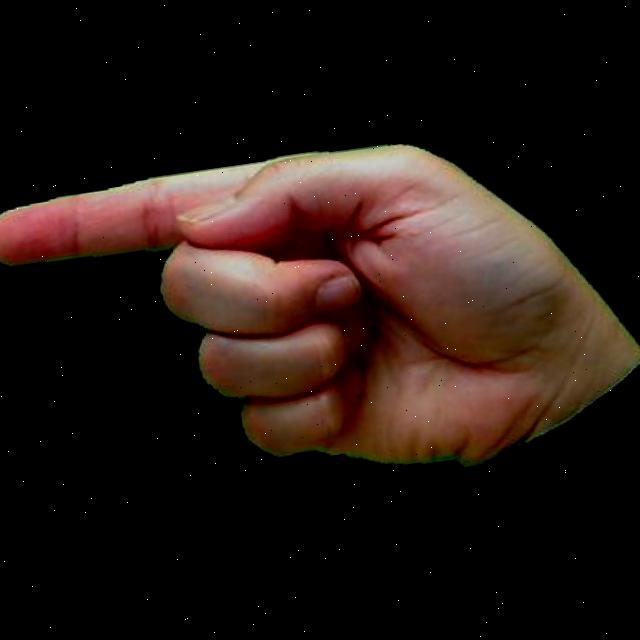g: (0, 83, 640, 528)
